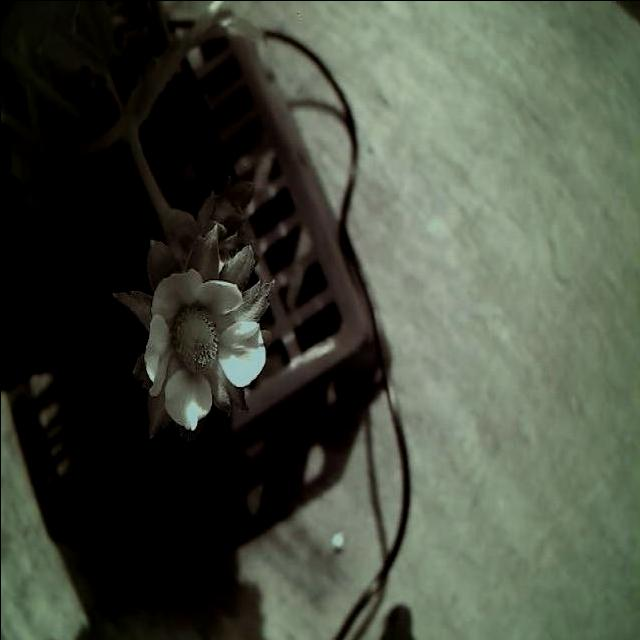flower: (122, 245, 278, 439)
